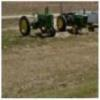tractors: (18, 6, 56, 39), (57, 10, 96, 36)
